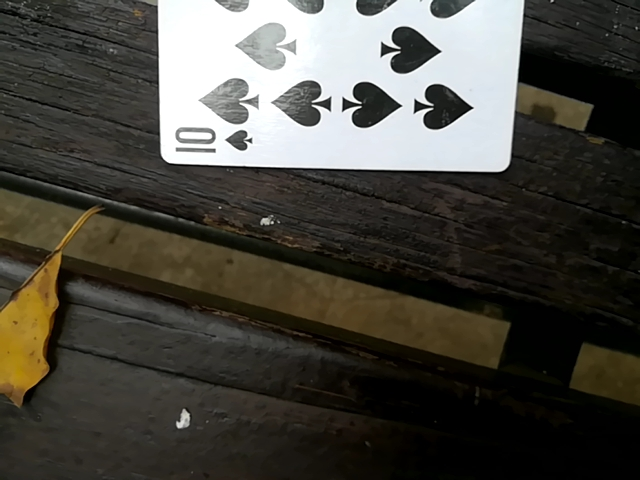ht 10: (142, 0, 528, 171)
